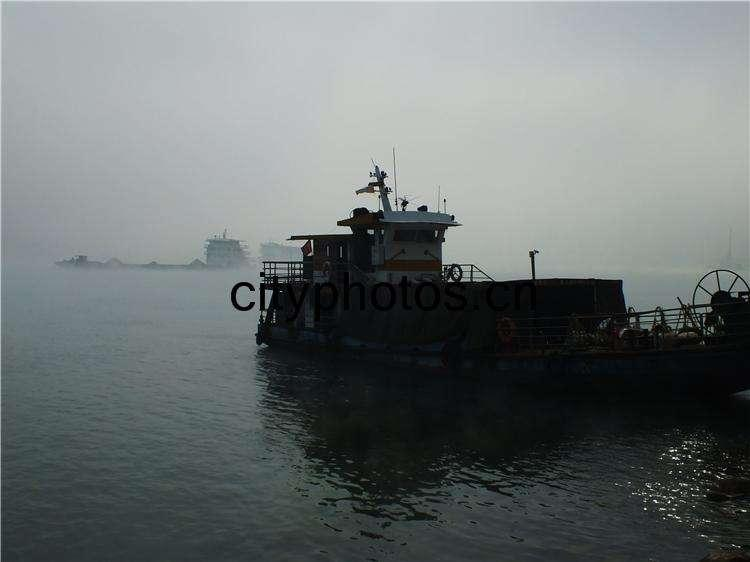otherboat: (241, 166, 665, 355)
